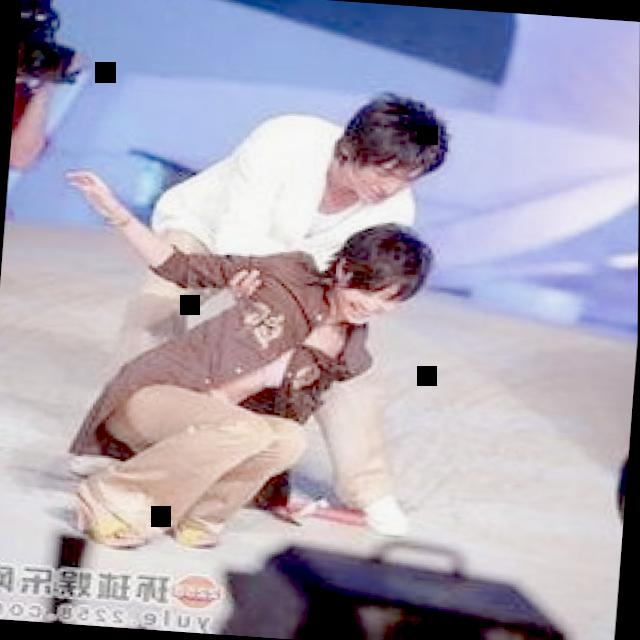Fall-Detected: (54, 128, 433, 576)
